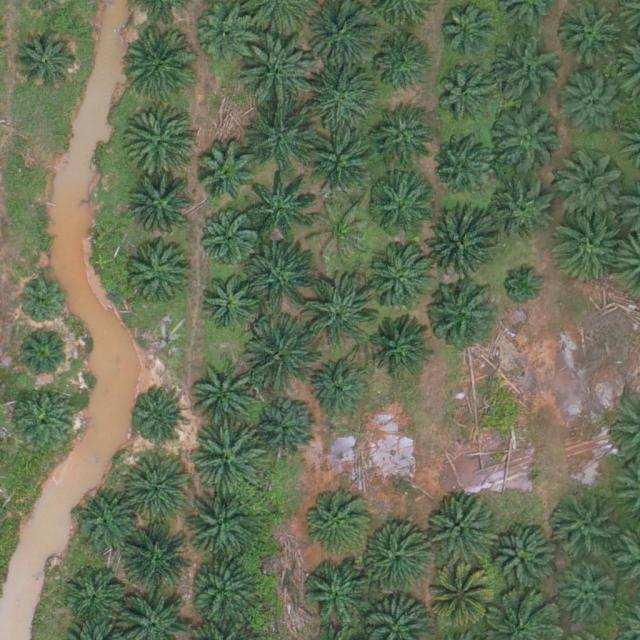Dead: (311, 198, 373, 261)
Healthy: (302, 562, 373, 633), (486, 524, 557, 595), (489, 105, 560, 176), (426, 211, 497, 282), (186, 494, 257, 565), (122, 454, 193, 525), (126, 28, 197, 99), (192, 553, 262, 624), (554, 142, 624, 213), (426, 497, 496, 568), (494, 32, 564, 103), (369, 243, 439, 314), (307, 62, 377, 133), (307, 133, 377, 204), (303, 486, 373, 557), (247, 321, 317, 392), (247, 242, 318, 312), (246, 171, 316, 242), (248, 99, 318, 170), (241, 38, 312, 108), (193, 354, 263, 425), (196, 425, 266, 496), (122, 521, 192, 592), (128, 173, 198, 244), (554, 68, 624, 138), (549, 214, 619, 284), (549, 494, 619, 564), (357, 525, 427, 595), (427, 284, 497, 354), (305, 277, 375, 347), (124, 105, 194, 175), (430, 138, 493, 201), (367, 174, 430, 237), (199, 269, 262, 332), (14, 31, 77, 94), (75, 492, 138, 555), (64, 567, 126, 630), (369, 317, 432, 379), (495, 180, 557, 243), (309, 362, 371, 425), (253, 396, 315, 459), (197, 209, 259, 272), (130, 241, 192, 304), (13, 387, 75, 450), (197, 2, 259, 65), (372, 111, 434, 173), (195, 142, 257, 204), (438, 67, 493, 122), (373, 38, 428, 93), (130, 388, 185, 443), (17, 326, 72, 381), (439, 3, 494, 58), (561, 571, 615, 626)
Small: (19, 280, 66, 328), (501, 261, 548, 308)
Yellow: (429, 569, 491, 632)
